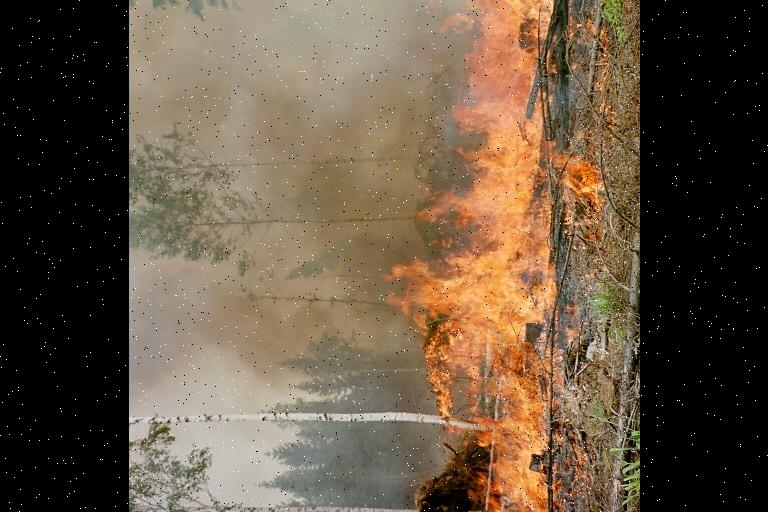fire: (383, 0, 599, 512)
